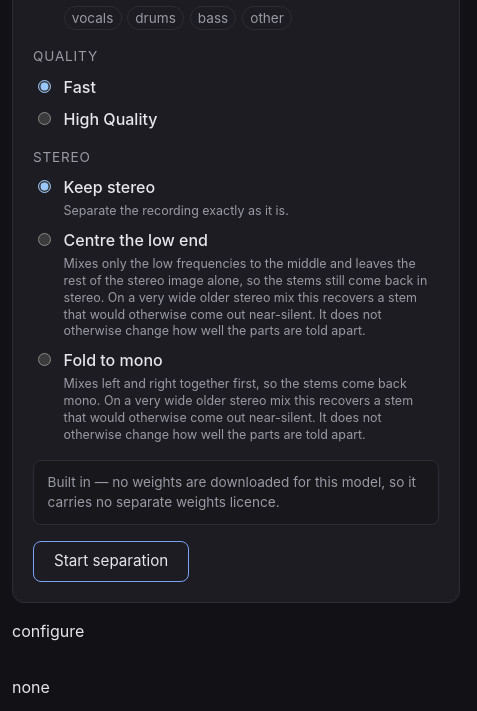
Test case: SeparationOptions starting a separation › submits once when the button is clicked twice
(page scrolled)
Double-click the button "Start separation".
double_click(111, 561)  # box left=33, top=541, right=189, bottom=582
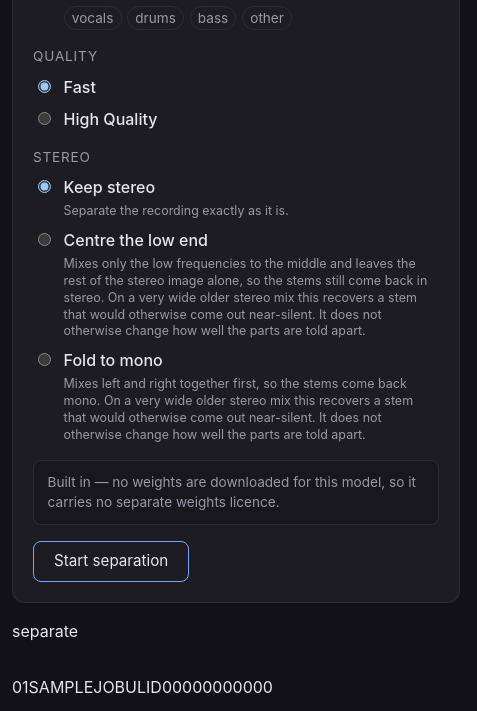
Result: the text with test id "phase" reads "separate" at left=12, top=620, right=78, bottom=640
